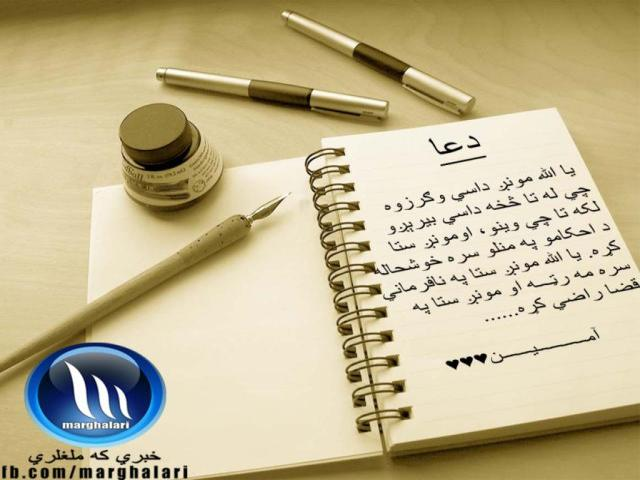PEN: (246, 5, 500, 129), (140, 53, 405, 132)
